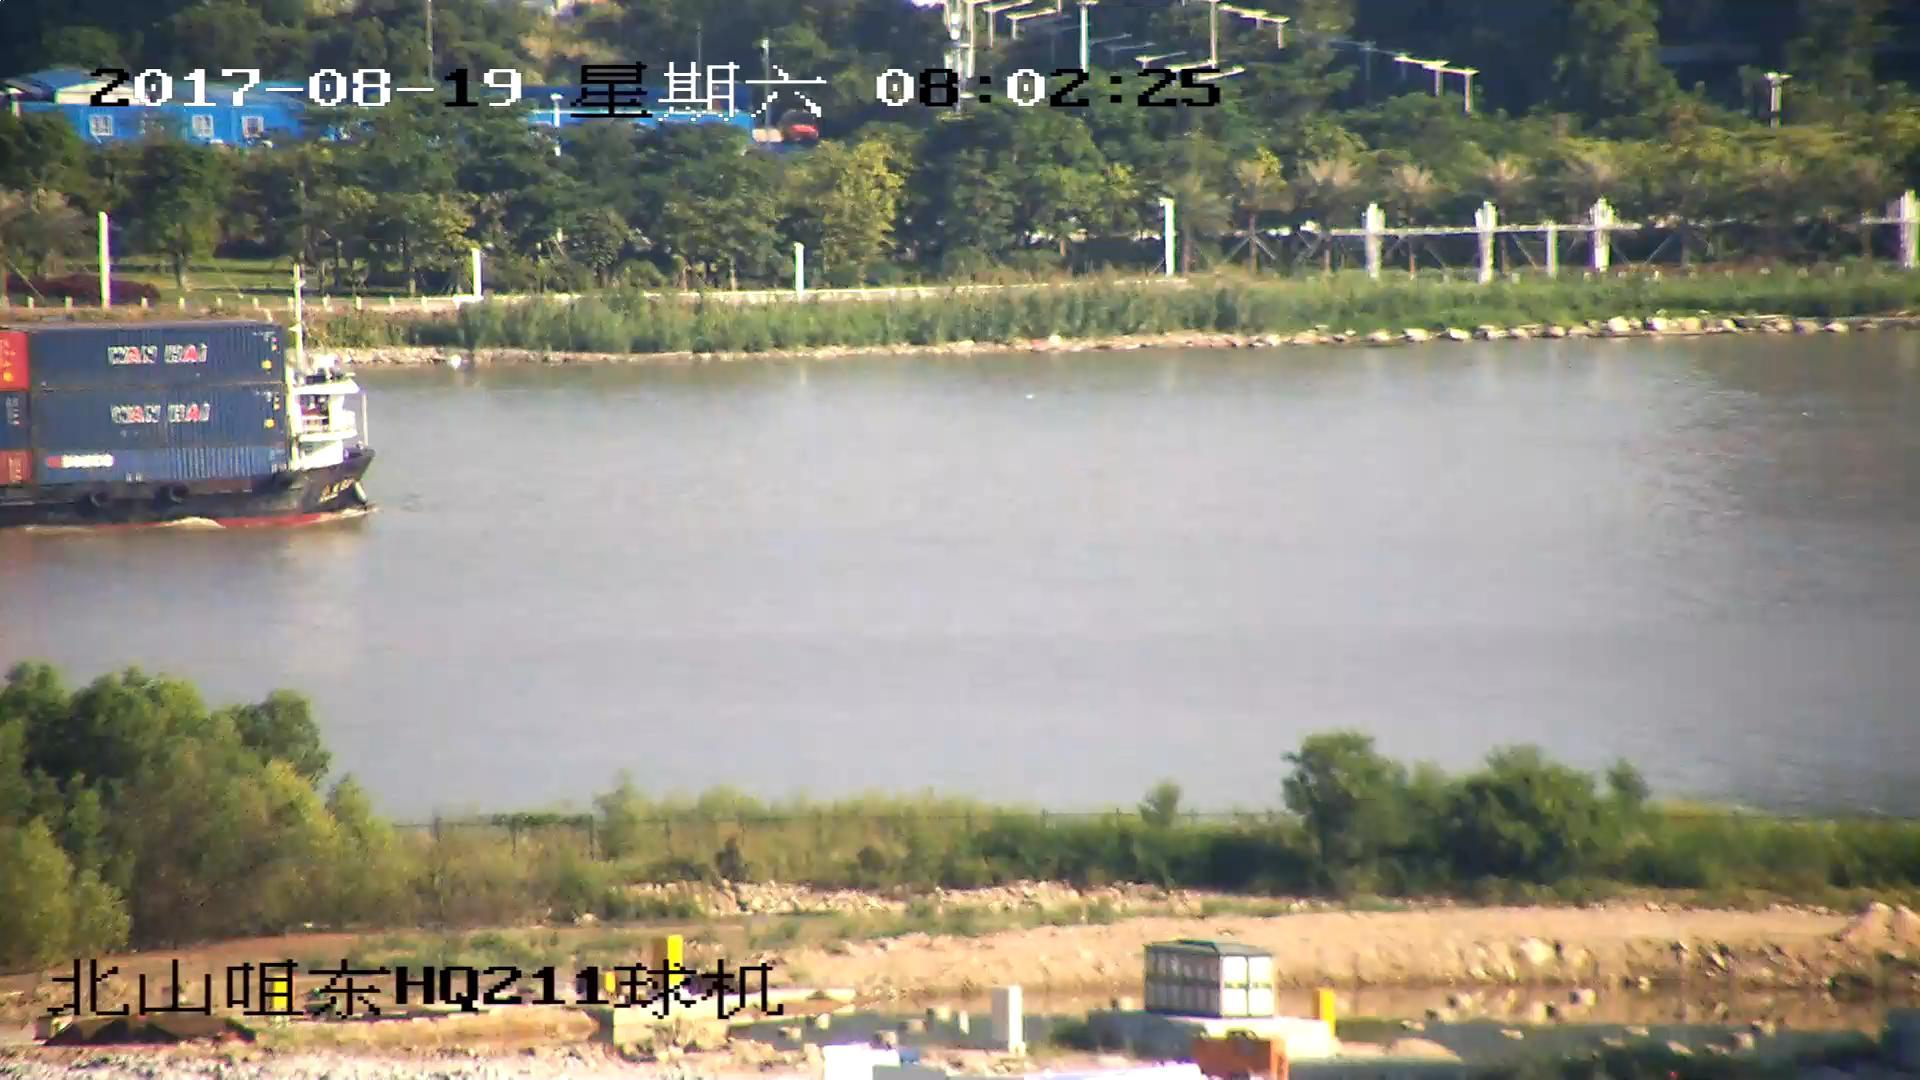Ship: (3, 269, 378, 527)
